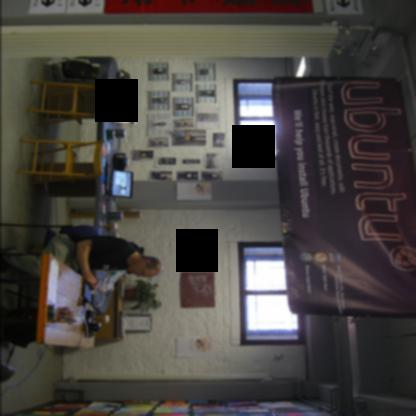suitcase: (52, 57, 123, 98)
